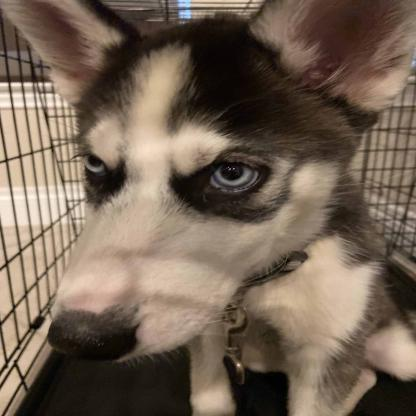dog: (4, 0, 416, 413)
